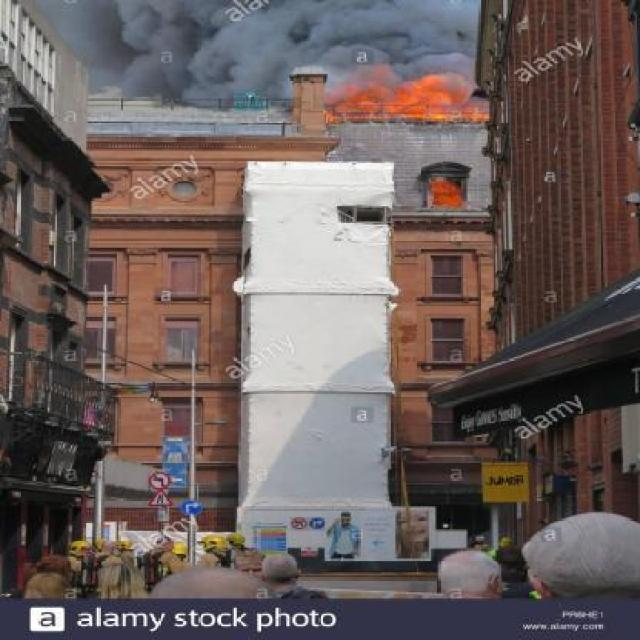Fire: (317, 63, 494, 219)
Smoke: (18, 0, 495, 112)
